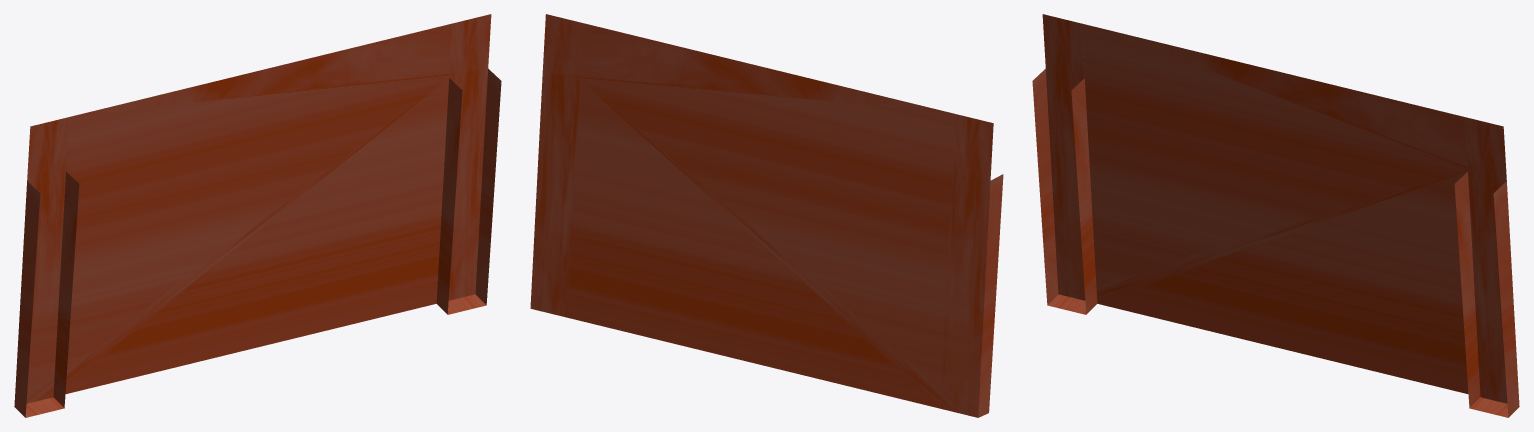
File: bajai2 1.fbx
The picture shows the model from 3 angles, left to right: view 1: azimuth 30°, elevation 25°; view 2: azimuth 150°, elevation 25°; view 3: azimuth 330°, elevation 25°; orthographic projection. The views are drawn at different scales.
Visible parts, largest first — view 1: Cube.013; view 2: Cube.013; view 3: Cube.013.
Part boxes in pixels (x1,y1,x2,y2): Cube.013: (14, 14, 501, 417); Cube.013: (530, 14, 1003, 417); Cube.013: (1032, 14, 1519, 417).
Size of the model in its own units: 189 by 116 by 18.44.
1 material, 1 textured.
